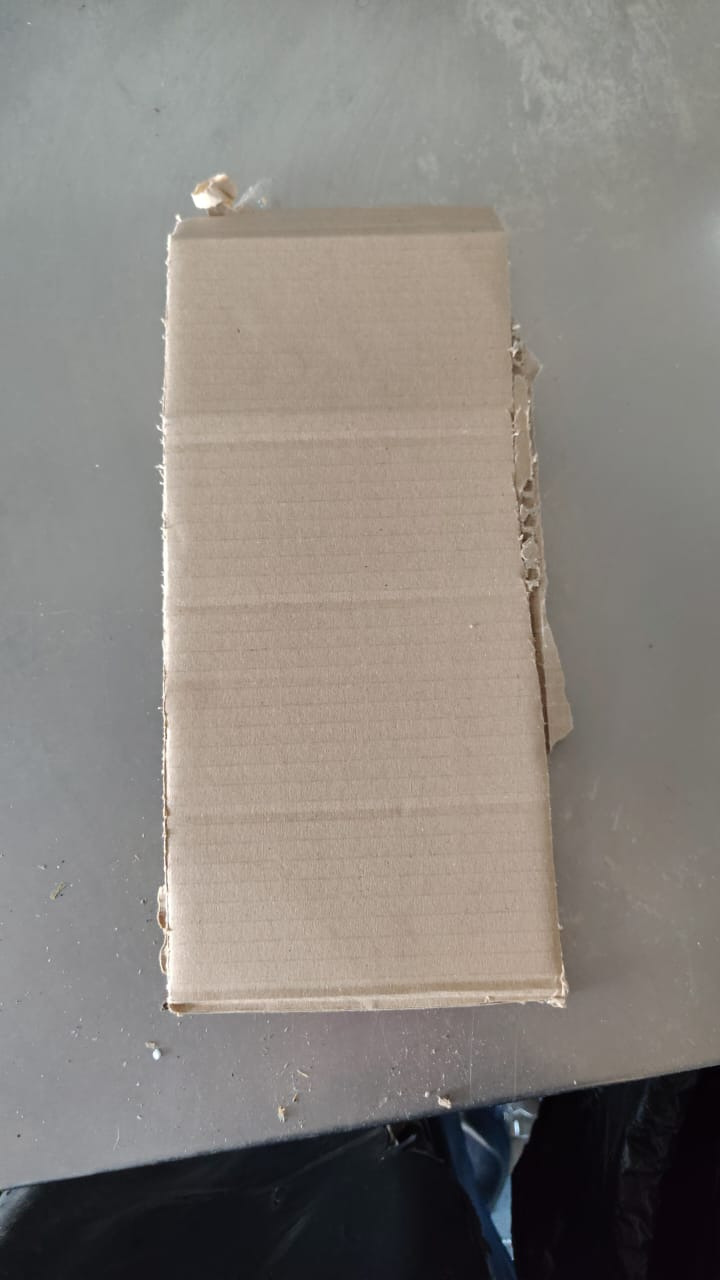Carton: (159, 209, 568, 1016)
